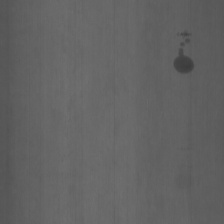oil_spot: (170, 31, 202, 83)
